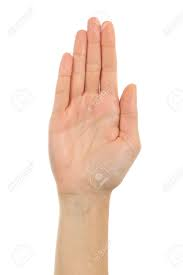palm: (53, 96, 143, 188)
